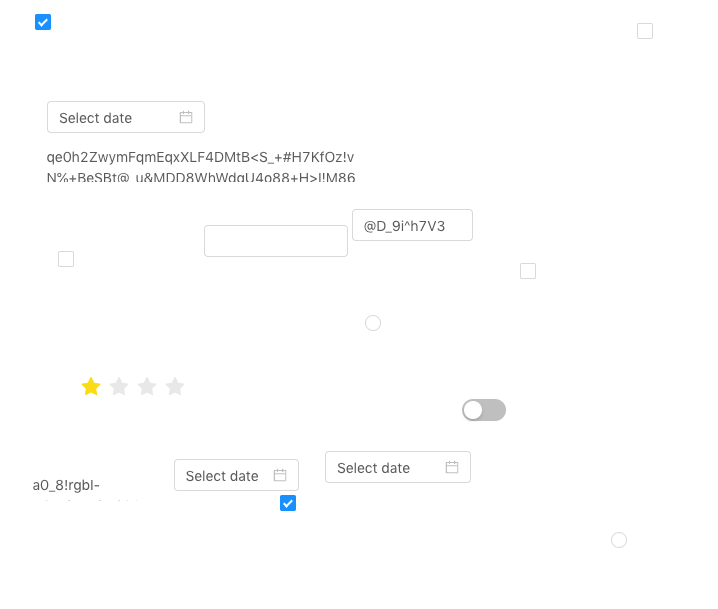Checkbox: (58, 248, 74, 269), (280, 492, 296, 513), (35, 11, 51, 32), (520, 260, 536, 281), (637, 20, 653, 41)
DatePicker: (47, 101, 205, 133), (325, 451, 471, 483), (174, 459, 299, 491)
Input: (204, 225, 348, 257), (352, 209, 473, 241)
Radio: (611, 529, 627, 549), (365, 312, 381, 332)
Rate: (81, 370, 201, 402)
Switch: (462, 398, 506, 422)
Text: (47, 146, 362, 182), (33, 474, 148, 501)
